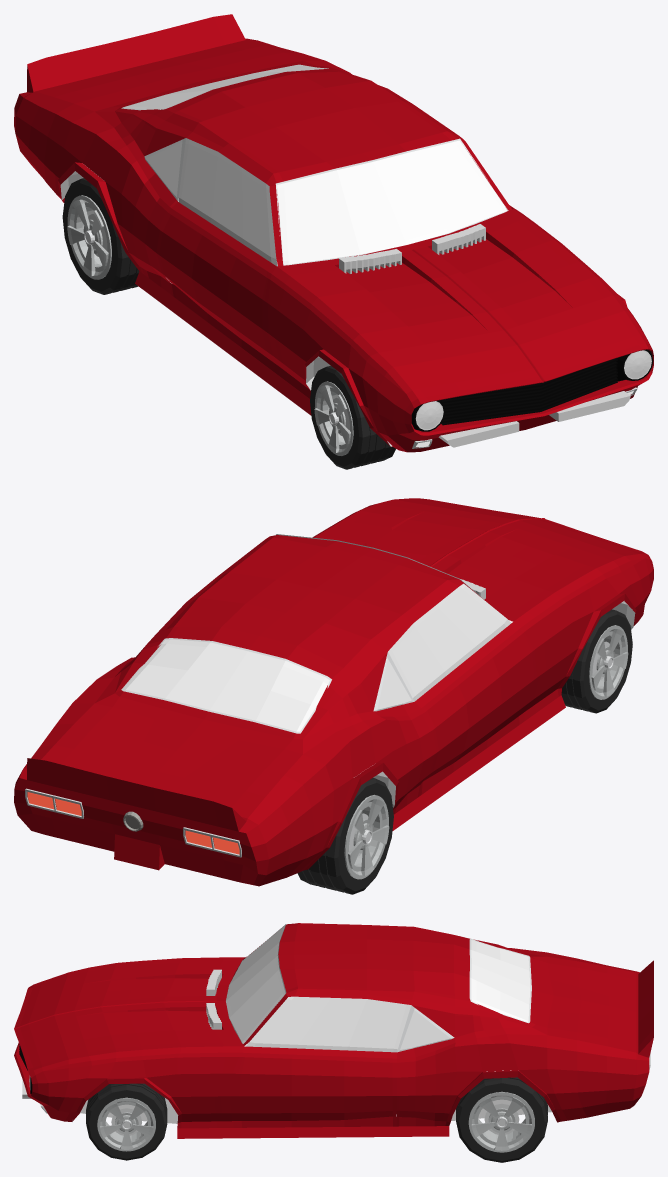
Rendered from Chevrolet_Camaro_SS_Red.glb.
The picture shows the model from 3 angles, top to bottom: view 1: azimuth 30°, elevation 25°; view 2: azimuth 150°, elevation 25°; view 3: azimuth 270°, elevation 25°; orthographic projection. The views are drawn at different scales.
Visible parts, largest first — view 1: Carroceria.001, Parabrisas_Ad, Pueratas, Ventana_1, Rejilla, Ruedas_Ad.002, Ruedas_Tr, Rin_1_Tr, Plano.002, Rin_1_Ad, Cubo, Parabrisas_Tr (+4 smaller); view 2: Carroceria.001, Parabrisas_Tr, Pueratas, Ventana_1, Ruedas_Tr, Ruedas_Ad.002, Rin_1_Tr, Rin_1_Ad, Luz_Tr, Marco_Parabrisad_Tr, Ventana_2; view 3: Carroceria.001, Pueratas, Ventana_1, Parabrisas_Ad, Parabrisas_Tr, Ruedas_Tr.001, Ruedas_Ad.001, Rin_1_Tr.001, Rin_1_Ad.001, Ventana_2, Cubo, Marco_Ventana_2 (+2 smaller).
Boxes of the visible parts, <box> form: Carroceria.001: <box>14,14,653,452</box>; Parabrisas_Ad: <box>277,140,507,264</box>; Pueratas: <box>156,202,519,367</box>; Ventana_1: <box>178,138,277,266</box>; Rejilla: <box>441,358,617,425</box>; Ruedas_Ad.002: <box>310,365,395,469</box>; Ruedas_Tr: <box>62,178,139,294</box>; Rin_1_Tr: <box>67,195,111,279</box>; Plano.002: <box>438,391,630,447</box>; Rin_1_Ad: <box>314,381,353,455</box>; Cubo: <box>339,224,485,273</box>; Parabrisas_Tr: <box>124,65,326,109</box>; Carroceria.001: <box>14,498,653,886</box>; Parabrisas_Tr: <box>124,639,329,731</box>; Pueratas: <box>415,622,540,780</box>; Ventana_1: <box>388,583,511,701</box>; Ruedas_Tr: <box>297,778,393,894</box>; Ruedas_Ad.002: <box>561,609,632,713</box>; Rin_1_Tr: <box>344,794,389,879</box>; Rin_1_Ad: <box>589,625,628,699</box>; Luz_Tr: <box>25,788,241,857</box>; Marco_Parabrisad_Tr: <box>121,638,331,733</box>; Ventana_2: <box>377,659,411,709</box>; Carroceria.001: <box>14,923,653,1138</box>; Pueratas: <box>230,957,396,1120</box>; Ventana_1: <box>245,996,411,1052</box>; Parabrisas_Ad: <box>226,925,285,1043</box>; Parabrisas_Tr: <box>471,939,530,1021</box>; Ruedas_Tr.001: <box>456,1077,547,1162</box>; Ruedas_Ad.001: <box>86,1083,167,1160</box>; Rin_1_Tr.001: <box>468,1091,534,1152</box>; Rin_1_Ad.001: <box>97,1097,155,1151</box>; Ventana_2: <box>400,1010,450,1049</box>; Cubo: <box>206,969,221,1029</box>; Marco_Ventana_2: <box>397,1005,454,1052</box>.
Bounding box in the file's own units: 3.92 × 2.68 × 9.85.
